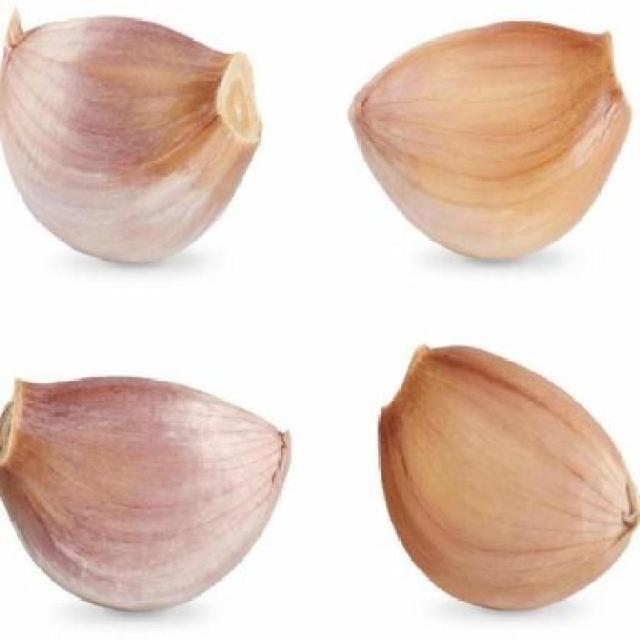garlic: (0, 366, 312, 611), (344, 6, 636, 263), (372, 338, 640, 612), (0, 12, 271, 270)
